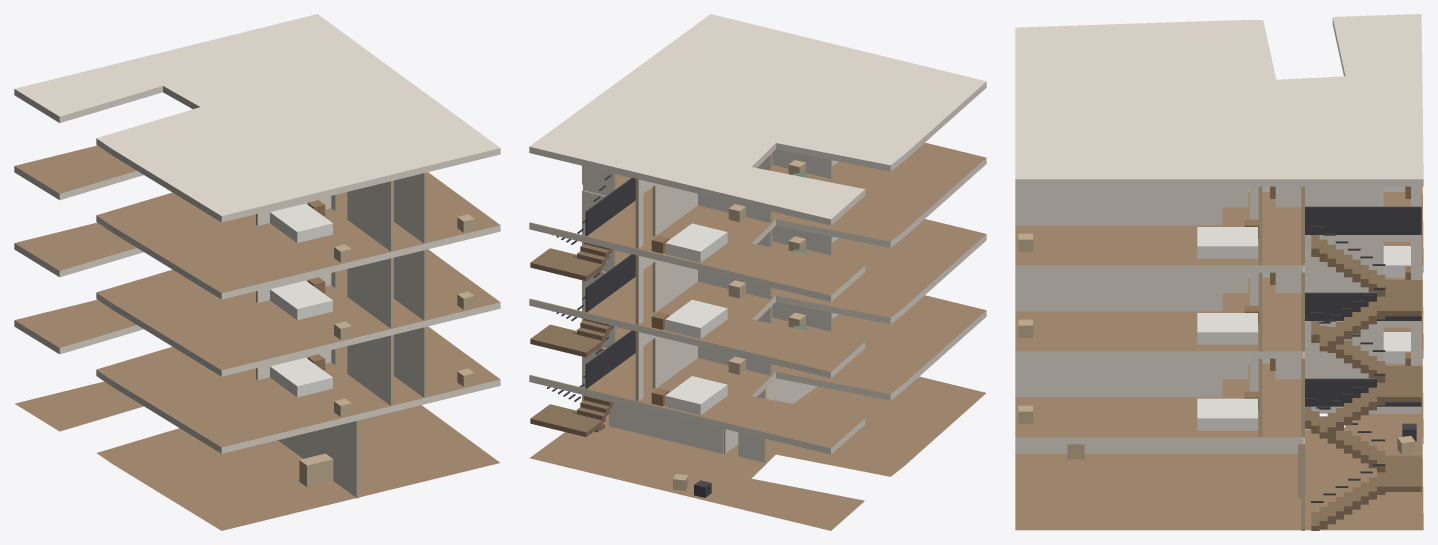
The model's file is interior.glb.
3 views of the same model, side by side, from view 1: azimuth 30°, elevation 25°; view 2: azimuth 150°, elevation 25°; view 3: azimuth 270°, elevation 25° (orthographic). The views are drawn at different scales.
Parts seen in each view (by area): view 1: slabs, partitions, coarse-s2, coarse-s3, coarse-s1, coarse-s0; view 2: slabs, partitions, stair, coarse-s3, coarse-s1, coarse-s2; view 3: slabs, partitions, stair, coarse-s1, coarse-s2, coarse-s3, coarse-s0.
Part boxes in pixels (box(x1,y1,x2,y2)): slabs: box(14, 14, 500, 530); partitions: box(256, 172, 426, 498); coarse-s2: box(270, 277, 474, 339); coarse-s3: box(270, 200, 474, 262); coarse-s1: box(270, 354, 474, 416); coarse-s0: box(299, 453, 333, 487); slabs: box(529, 14, 986, 530); partitions: box(582, 149, 832, 462); stair: box(530, 174, 635, 436); coarse-s3: box(651, 160, 838, 262); coarse-s1: box(651, 312, 838, 415); coarse-s2: box(651, 236, 838, 338); slabs: box(1015, 14, 1423, 530); partitions: box(1015, 186, 1421, 530); stair: box(1305, 206, 1421, 530); coarse-s1: box(1018, 332, 1410, 430); coarse-s2: box(1018, 246, 1410, 344); coarse-s3: box(1018, 186, 1410, 258); coarse-s0: box(1067, 423, 1416, 459).
Bounding box in the file's own units: 12.87 × 12.76 × 13.43.
